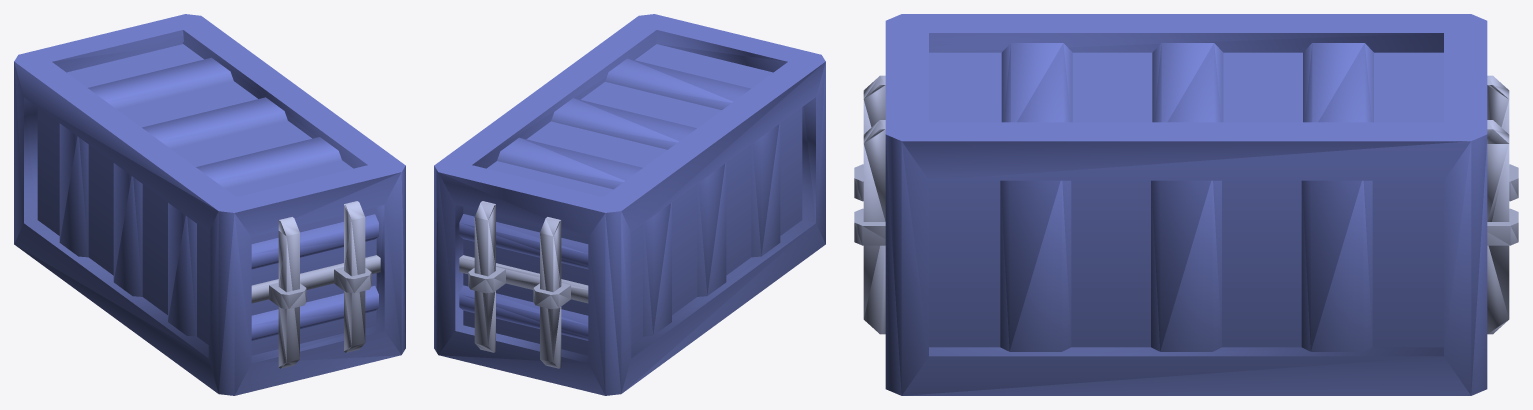
File: container_b.glb
The picture shows the model from 3 angles, left to right: view 1: azimuth 30°, elevation 25°; view 2: azimuth 150°, elevation 25°; view 3: azimuth 270°, elevation 25°; orthographic projection. The views are drawn at different scales.
Visible parts, largest first — view 1: shipping-container-b; view 2: shipping-container-b; view 3: shipping-container-b.
Boxes of the visible parts, x1,y1,x2,y2 form: shipping-container-b: [14, 14, 405, 395]; shipping-container-b: [434, 14, 825, 395]; shipping-container-b: [854, 14, 1518, 395].
Bounding box in the file's own units: 6 × 5.61 × 13.25.
2 materials, 2 textured.
